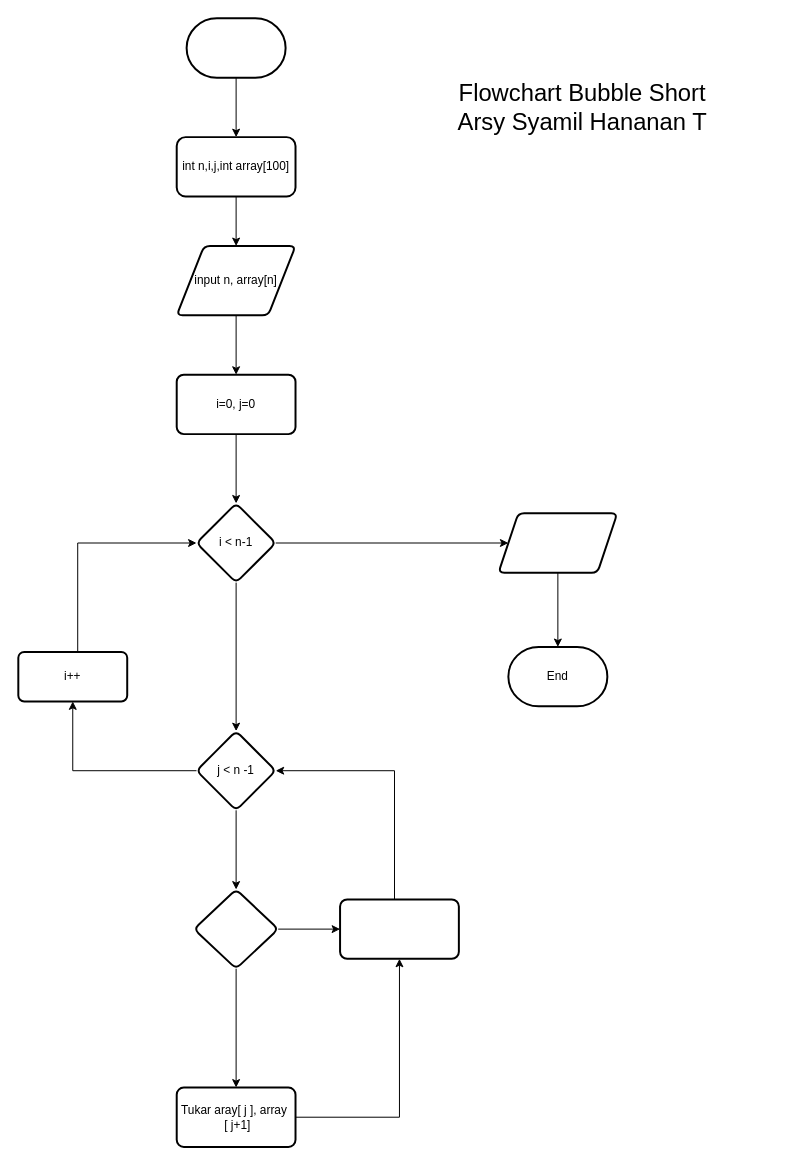
Some shapes in this 797 by 1164 pixel diagram are drawn without their labels. Each missing label, with the box of its shape:
array[ j ] > array[ j+1]: (193, 888, 279, 969)
j++: (339, 898, 459, 959)
Output Array: (497, 512, 618, 573)
Start: (185, 17, 286, 78)
